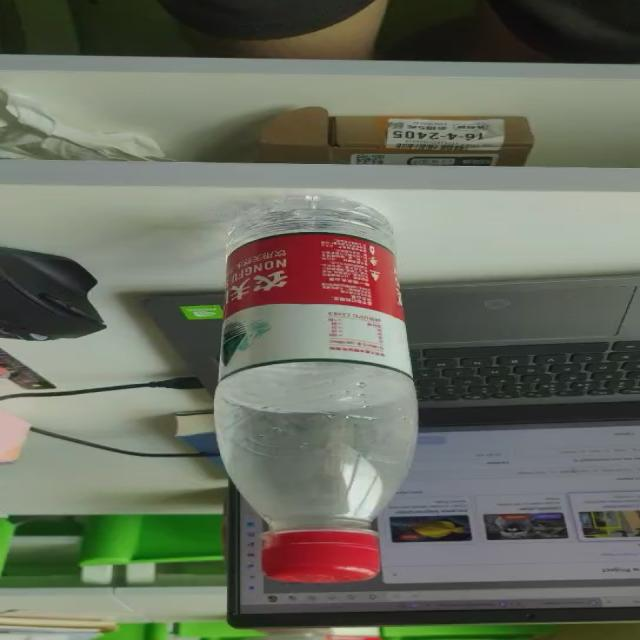bottle: (211, 190, 416, 588)
